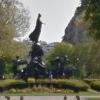Statue: (20, 8, 54, 67)
